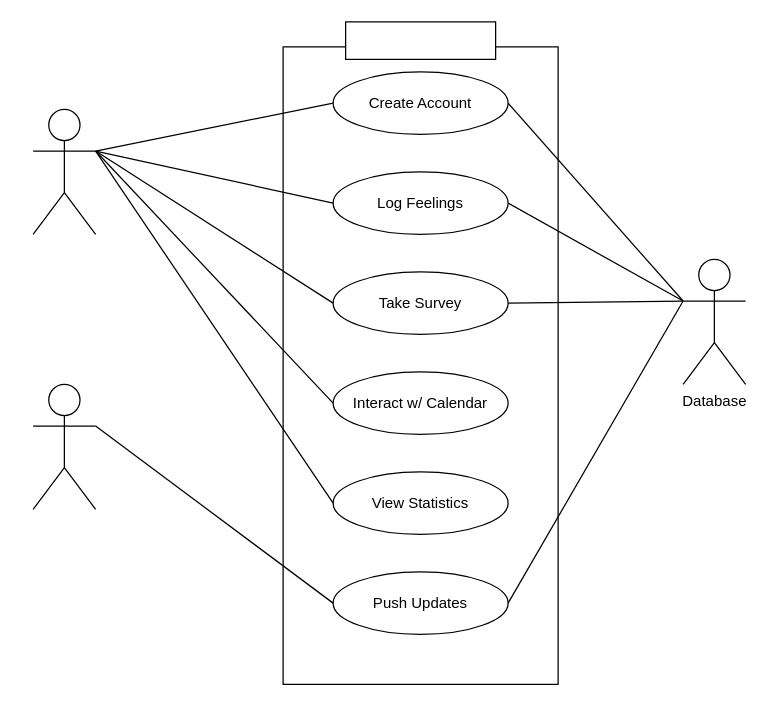
Some shapes in this 768 by 706 pixel diagram are drawn without their labels. Each missing label, with the box of its shape:
BeeWell: (344, 21, 496, 59)
Maintenance: (32, 383, 96, 509)
User: (32, 108, 96, 234)
